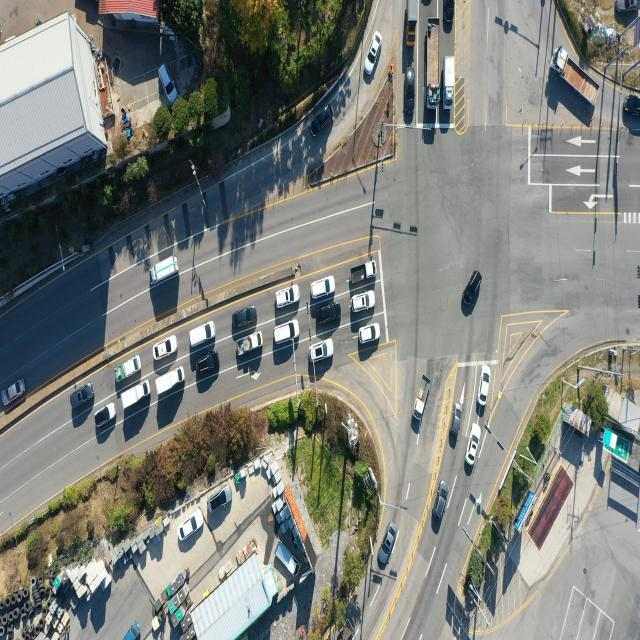car: (180, 510, 206, 546), (158, 61, 178, 105), (365, 32, 383, 76), (377, 525, 395, 569), (186, 319, 214, 346), (311, 106, 334, 137), (274, 322, 300, 348), (465, 270, 483, 307), (2, 377, 25, 404), (448, 404, 462, 447), (312, 340, 337, 364), (155, 336, 179, 361), (70, 382, 94, 407), (196, 353, 222, 376), (317, 301, 343, 324), (210, 488, 232, 515), (466, 425, 480, 467), (234, 306, 258, 330), (276, 284, 300, 307), (310, 278, 334, 300), (404, 68, 416, 112), (436, 481, 450, 518), (94, 405, 114, 429), (352, 293, 375, 313), (480, 365, 491, 406), (364, 321, 386, 341), (358, 323, 379, 343), (624, 94, 640, 116), (445, 0, 455, 33), (616, 0, 639, 13), (422, 0, 431, 7)
medium_truck: (552, 45, 598, 108), (425, 22, 440, 109)
small_truck: (157, 366, 187, 398), (122, 377, 151, 408), (150, 257, 178, 288), (414, 373, 432, 419), (234, 332, 261, 359), (443, 55, 456, 109), (118, 354, 142, 381), (275, 541, 296, 571), (406, 0, 417, 48), (351, 262, 376, 283), (125, 619, 142, 640)
